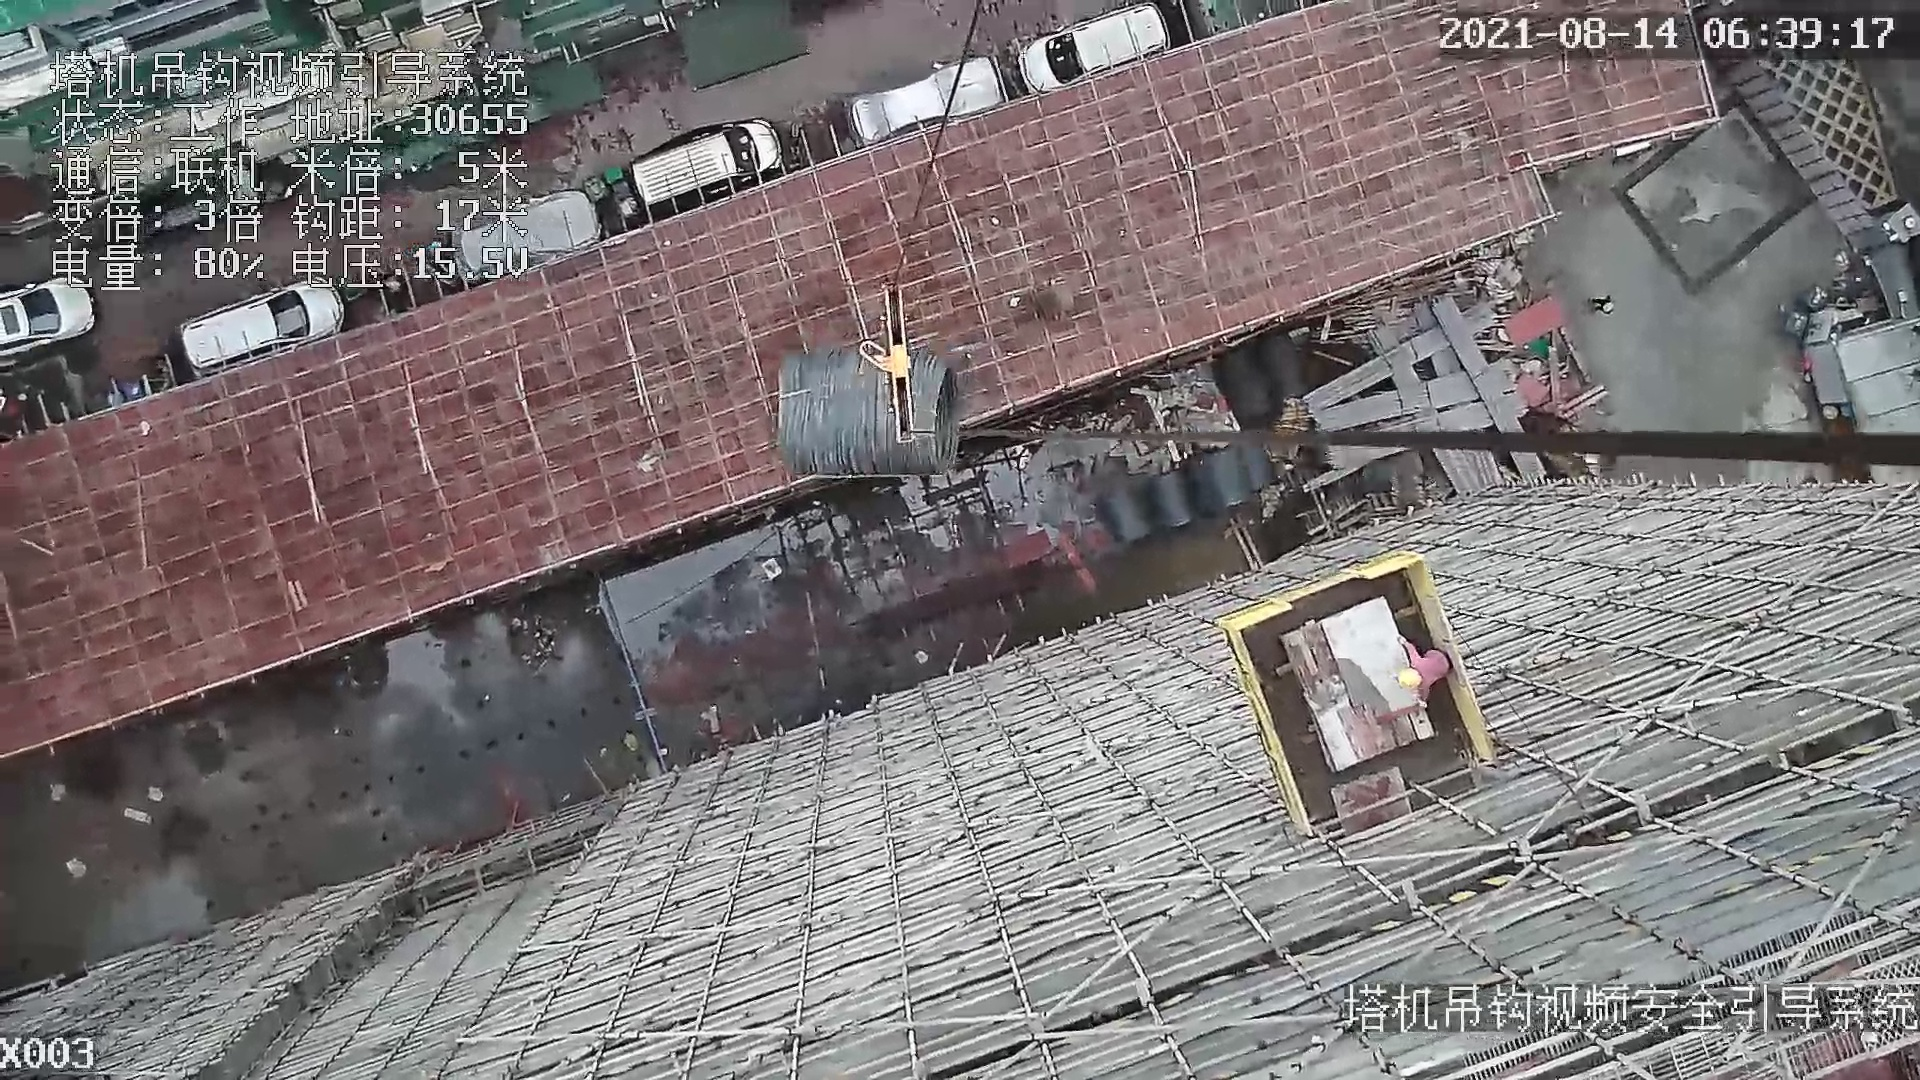helmet: (1395, 656, 1430, 703)
hook: (858, 285, 923, 458)
person: (1394, 636, 1458, 714)
